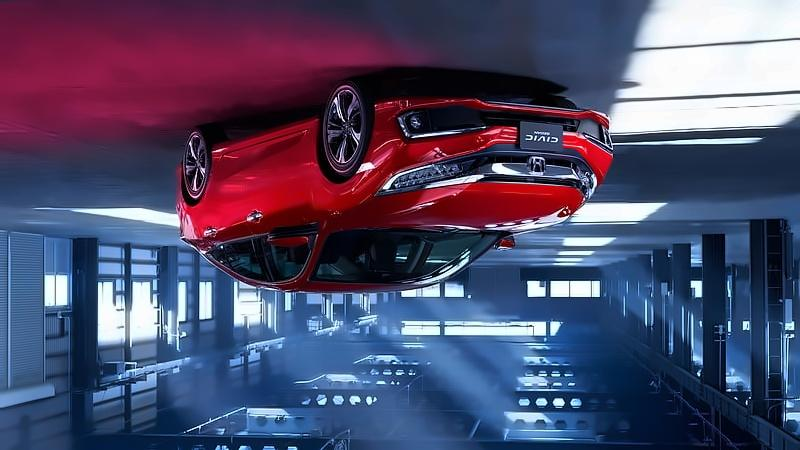Car hood: (347, 184, 585, 238)
Fender - -F-L-: (307, 102, 397, 234)
Fender - -R-L-: (172, 163, 228, 250)
Front bumper: (374, 89, 615, 185)
Headlight - -L-: (373, 152, 484, 195)
Passenger-s door - -F-L-: (246, 102, 329, 295)
Passenger-s door - -R-L-: (202, 111, 278, 289)
Side bumper - -L-: (204, 107, 328, 197)
Side mirror - -L-: (265, 217, 312, 253)
